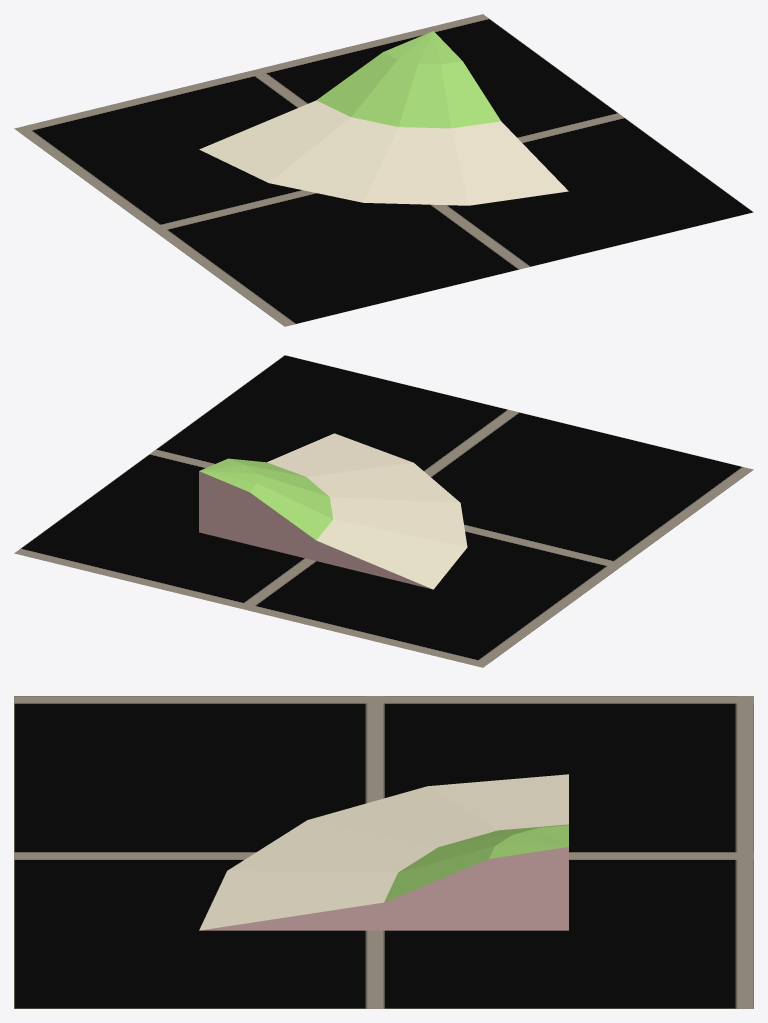
File: Path_Terrain_Basic_Curve_Outer_1x1.glb
3 views of the same model, one above another, from view 1: azimuth 30°, elevation 25°; view 2: azimuth 150°, elevation 25°; view 3: azimuth 270°, elevation 25° (orthographic). The views are drawn at different scales.
Parts seen in each view (by area): view 1: Floor, Path_Terrain_Basic_Curve_Outer_1x1; view 2: Floor, Path_Terrain_Basic_Curve_Outer_1x1; view 3: Floor, Path_Terrain_Basic_Curve_Outer_1x1.
Boxes of the visible parts, left/top/right/bottom form: Floor: left=14, top=14, right=753, bottom=326; Path_Terrain_Basic_Curve_Outer_1x1: left=199, top=31, right=568, bottom=205; Floor: left=14, top=355, right=753, bottom=667; Path_Terrain_Basic_Curve_Outer_1x1: left=199, top=433, right=467, bottom=589; Floor: left=14, top=696, right=753, bottom=1008; Path_Terrain_Basic_Curve_Outer_1x1: left=199, top=774, right=568, bottom=930.
Size of the model in its own units: 200 by 25 by 200.
5 materials, 1 textured.
